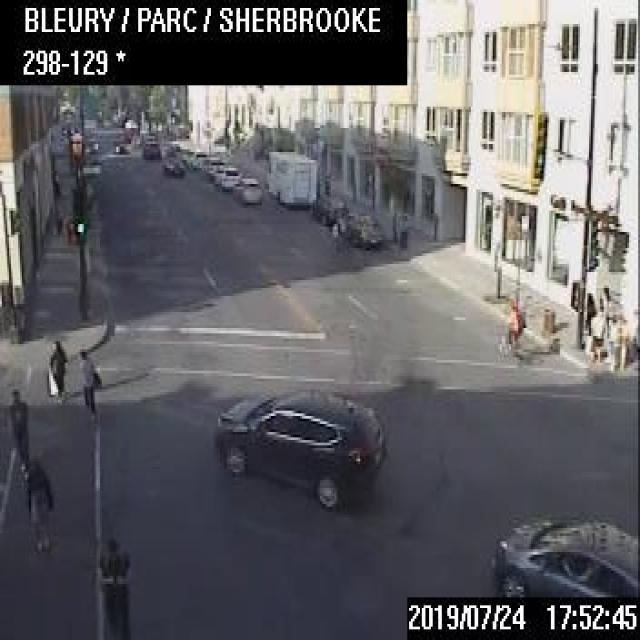pedestrian: (98, 536, 129, 638), (24, 453, 52, 552), (5, 387, 29, 485), (74, 346, 102, 418), (44, 336, 67, 401), (504, 294, 524, 350), (588, 304, 604, 361), (604, 312, 618, 371), (617, 316, 630, 369)
vehicle: (211, 385, 384, 509), (491, 514, 638, 594), (264, 148, 316, 205), (331, 210, 384, 245), (309, 192, 346, 222), (231, 175, 259, 202), (212, 164, 240, 189), (161, 153, 184, 175), (200, 155, 222, 174), (189, 148, 205, 168), (141, 139, 159, 156), (158, 140, 174, 155), (114, 136, 129, 151)
